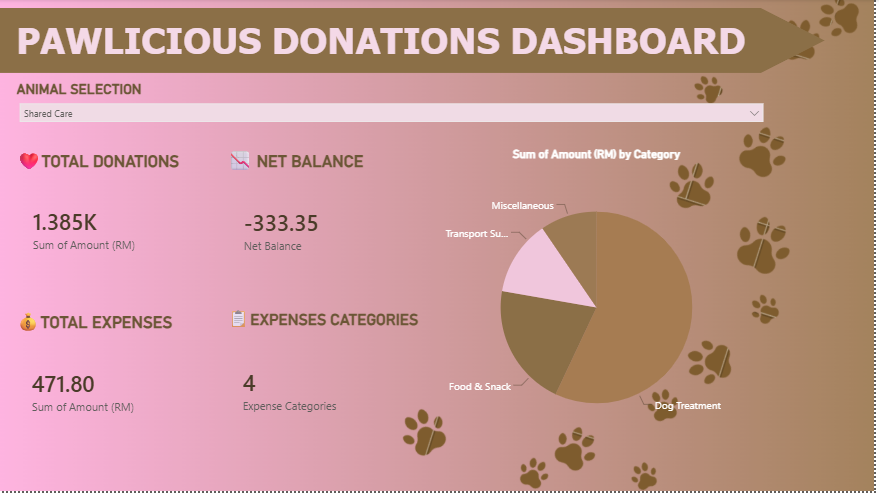

The dashboard page shown, as its layout file describes it:
{"tool":"powerbi","page":{"name":"Page 1","canvas":[1280,720],"ordinal":0},"visuals":[{"type":"image","box":[0,0,1280,720.6],"z":0},{"type":"shape","box":[0,13.2,1207.3,95.1],"z":1000},{"type":"textbox","title":"PAWLICIOUS DONATIONS DASHBOARD","box":[19,27.8,1106.3,67.3],"z":2000},{"type":"cardVisual","title":"❤️TOTAL DONATIONS","fields":{"Data":["Sum(Donations.Amount (RM))"]},"box":[19,216.6,297.1,213.7],"z":4000},{"type":"cardVisual","title":"📉 NET BALANCE","fields":{"Data":["Donations.Net Balance"]},"box":[327.8,216.6,297.1,215.1],"z":5000},{"type":"cardVisual","title":"💰TOTAL EXPENSES","fields":{"Data":["Sum(Expenses.Amount (RM))"]},"box":[17.6,452.2,298.5,215.1],"z":6000},{"type":"cardVisual","title":"📋EXPENSES CATEGORIES","fields":{"Data":["Donations.Expense Categories"]},"box":[326.3,450.7,298.5,216.6],"z":7000},{"type":"pieChart","fields":{"Y":["Sum(Expenses.Amount (RM))"],"Category":["Expenses.Category"]},"box":[639.5,216.6,466.8,450.7],"z":8000},{"type":"slicer","title":"ANIMAL SELECTION","fields":{"Values":["Expenses.Animal"]},"box":[19,120,1107.8,82],"z":9000}]}

Visuals, with their boxes in screenshot pixels (x1, y1, x2, y2), scaled from the page's 1280x720 canvas onto the 879x494 screenshot:
image: [0,0,878,493]
shape: [0,9,829,74]
"PAWLICIOUS DONATIONS DASHBOARD" textbox: [13,19,773,65]
"❤️TOTAL DONATIONS" cardVisual: [13,149,217,295]
"📉 NET BALANCE" cardVisual: [225,149,429,296]
"💰TOTAL EXPENSES" cardVisual: [12,310,217,458]
"📋EXPENSES CATEGORIES" cardVisual: [224,309,429,458]
pieChart - Sum(Expenses.Amount (RM)) x Expenses.Category: [439,149,760,458]
"ANIMAL SELECTION" slicer: [13,82,774,139]
